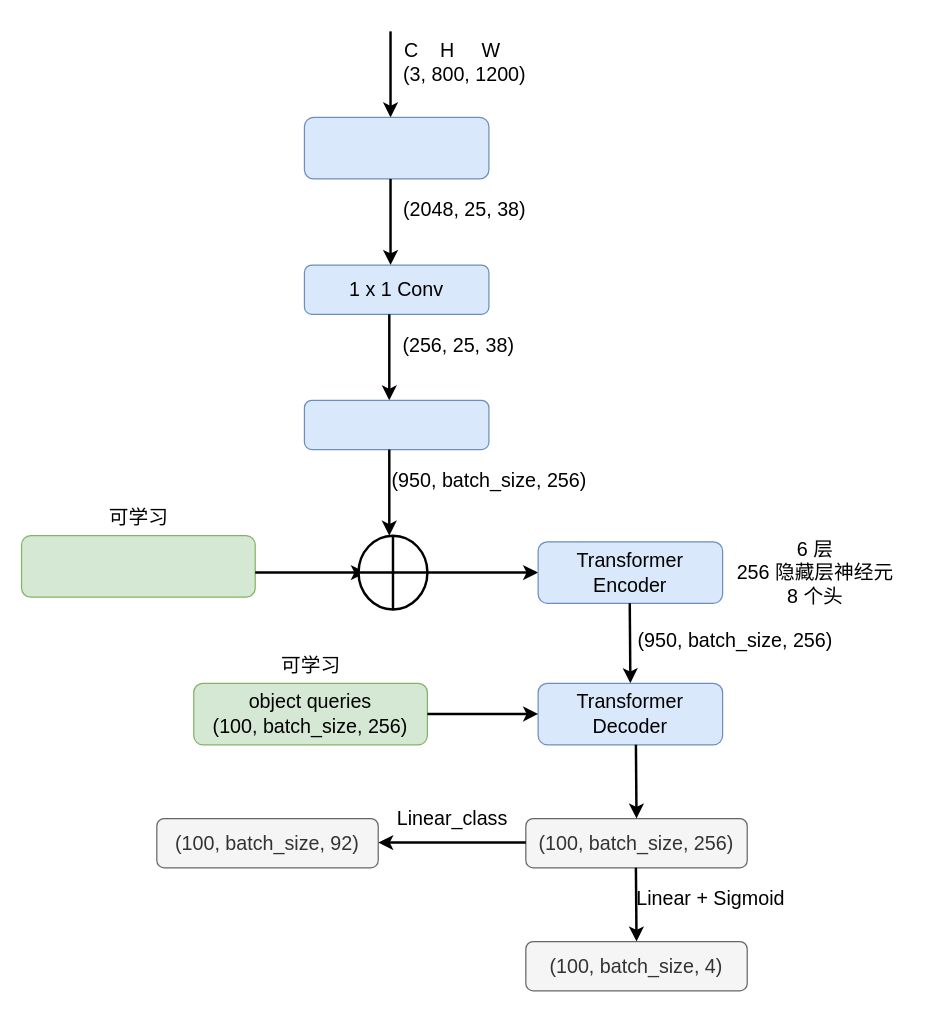
Image size: 929x1012. Some labels were removed from this diagram. The centre of each missing label's shape, as x and y in pixels:
backbone (resnet 50): [396,147]
flatten: [396,424]
positonal encoding (950, batch_size, 256): [137,565]
